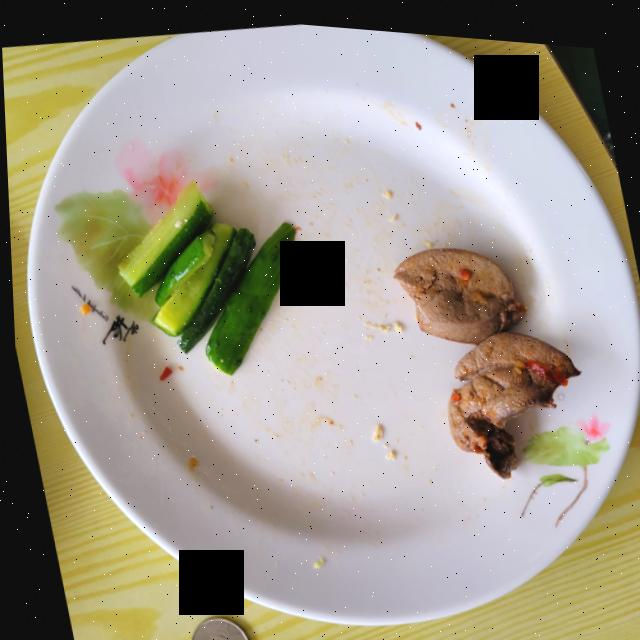coin: (185, 613, 244, 640)
cucumber: (116, 177, 293, 370)
pig liver: (391, 239, 577, 469)
